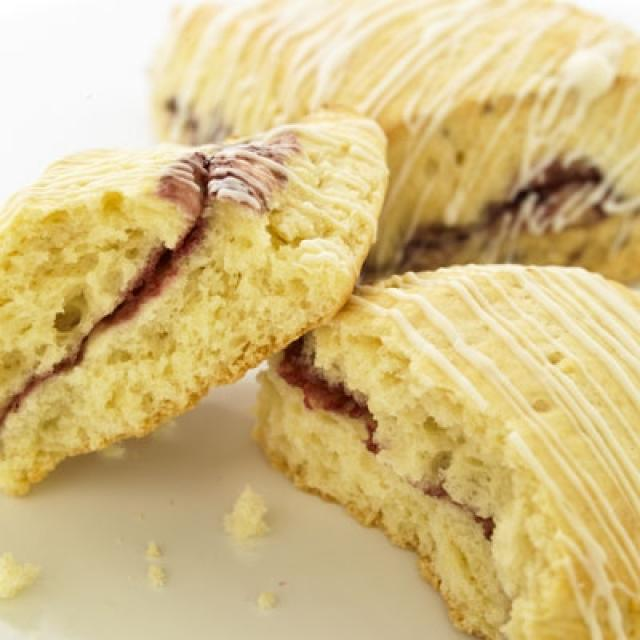面包点心: (8, 20, 624, 618)
